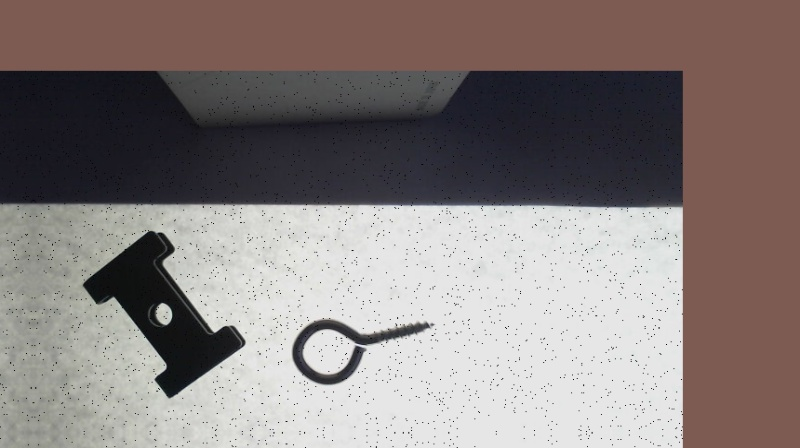O001: (290, 309, 437, 384)
O002: (78, 230, 245, 397)
